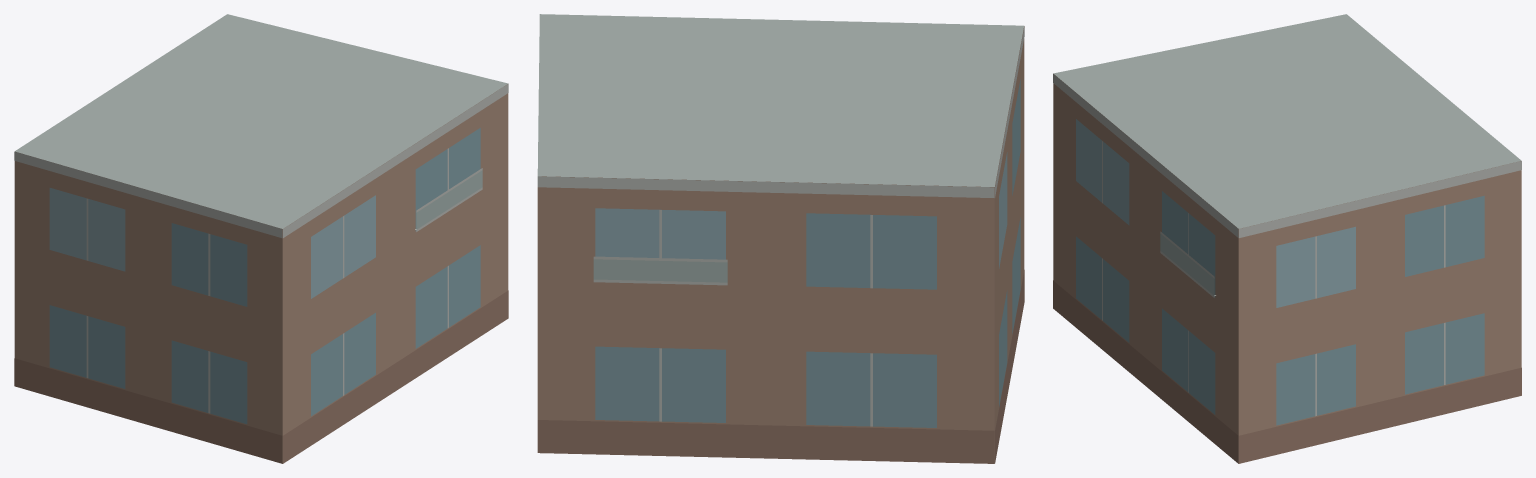
Rendered from survey-upis-32887469.glb.
3 renders of one model, left to right at view 1: azimuth 30°, elevation 25°; view 2: azimuth 150°, elevation 25°; view 3: azimuth 270°, elevation 25°, orthographic. The views are drawn at different scales.
Parts seen in each view (by area): view 1: survey-upis-32887469.tmp; view 2: survey-upis-32887469.tmp; view 3: survey-upis-32887469.tmp.
Part boxes in pixels (x1,y1,x2,y2): survey-upis-32887469.tmp: (14, 14, 508, 463); survey-upis-32887469.tmp: (537, 14, 1024, 463); survey-upis-32887469.tmp: (1053, 14, 1521, 463).
Size of the model in its own units: 11.97 by 6.1 by 11.04.
